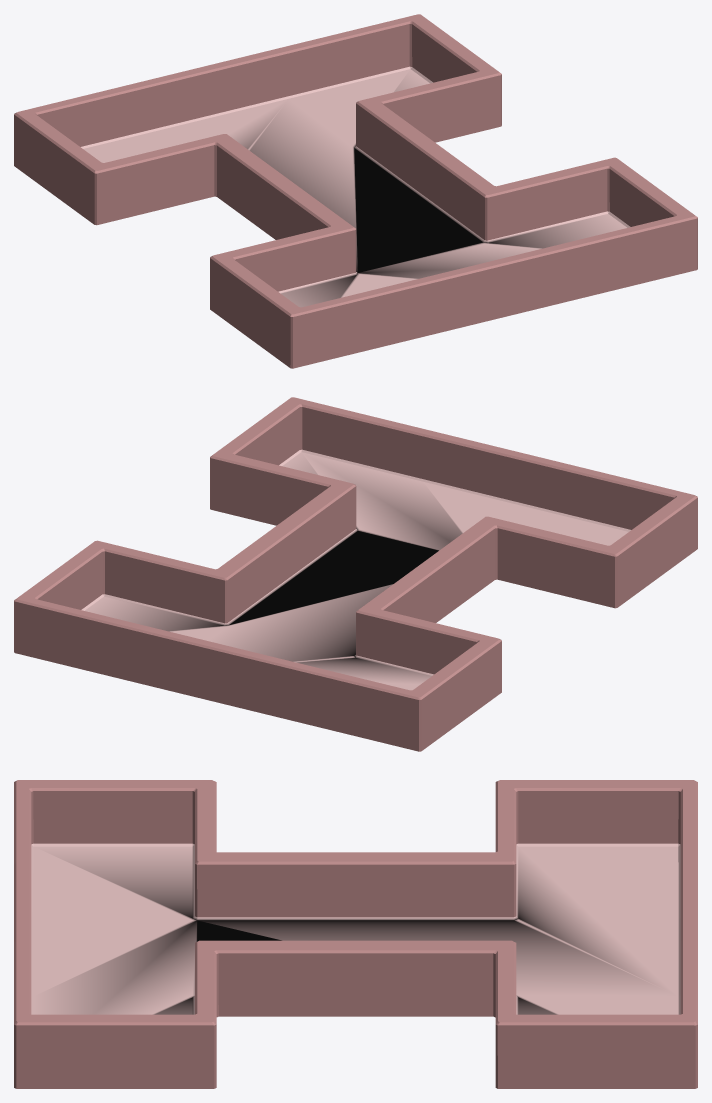
3 views of the same model, one above another, from view 1: azimuth 30°, elevation 25°; view 2: azimuth 150°, elevation 25°; view 3: azimuth 270°, elevation 25° (orthographic). The views are drawn at different scales.
Visible parts, largest first — view 1: Table_I; view 2: Table_I; view 3: Table_I.
Part boxes in pixels (left/top/right/bottom): Table_I: left=14, top=14, right=697, bottom=368; Table_I: left=14, top=397, right=697, bottom=751; Table_I: left=14, top=780, right=697, bottom=1088.
Bounding box in the file's own units: 7.91 × 0.9876 × 9.36.
